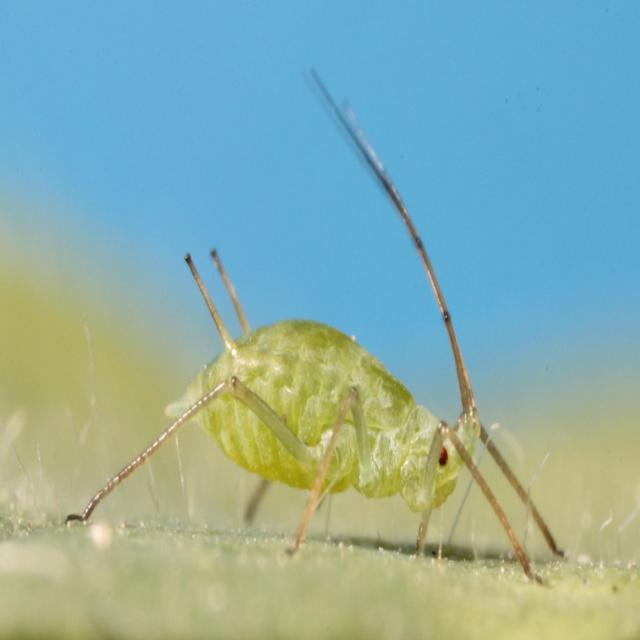Aphid-Grown-: (140, 202, 517, 571)
